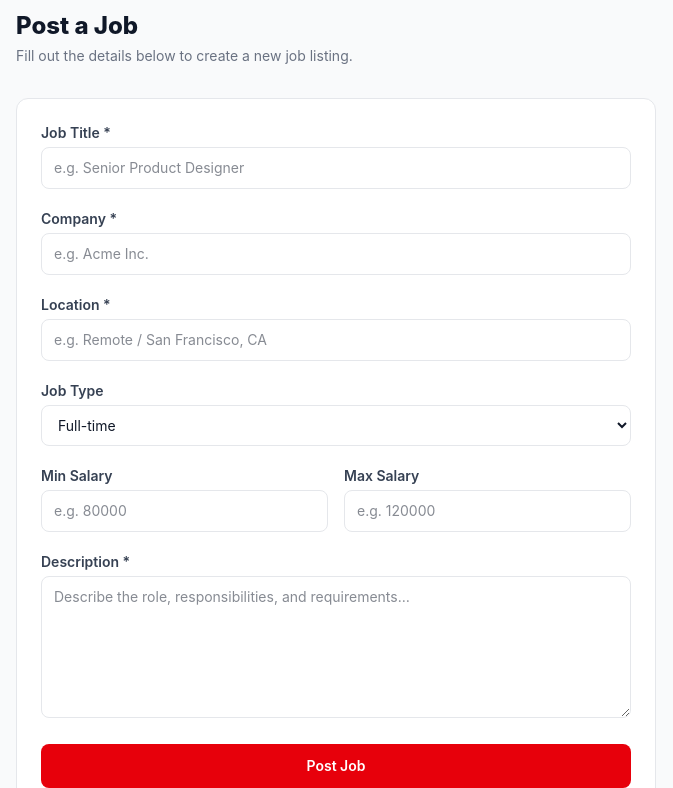
PostJob page › shows validation error when required fields empty
The width and height of the screenshot is (673, 788).
Click the button "Post Job": (336, 766) [41, 744, 631, 787]
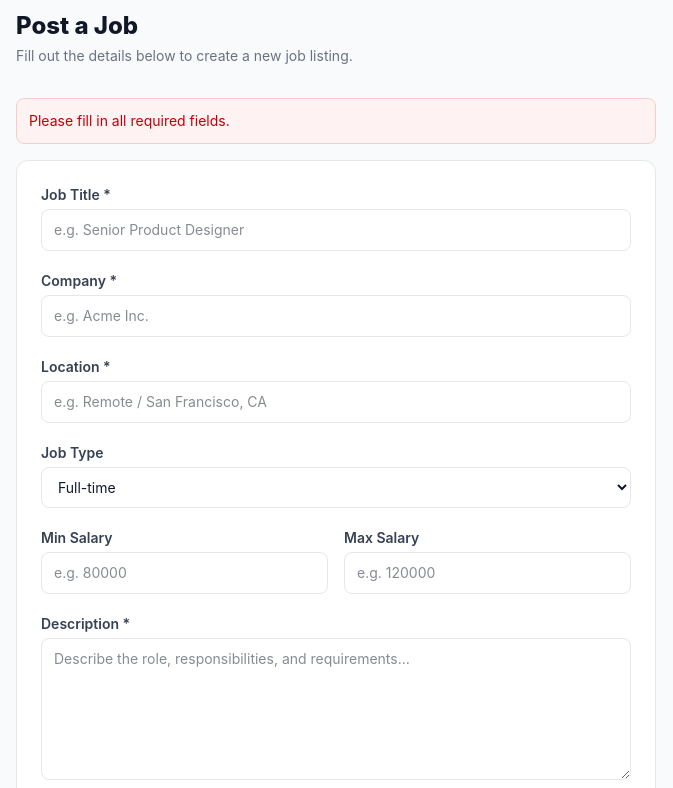
Expected: the text "Please fill in all required fields." is shown, [16, 98, 656, 144]
